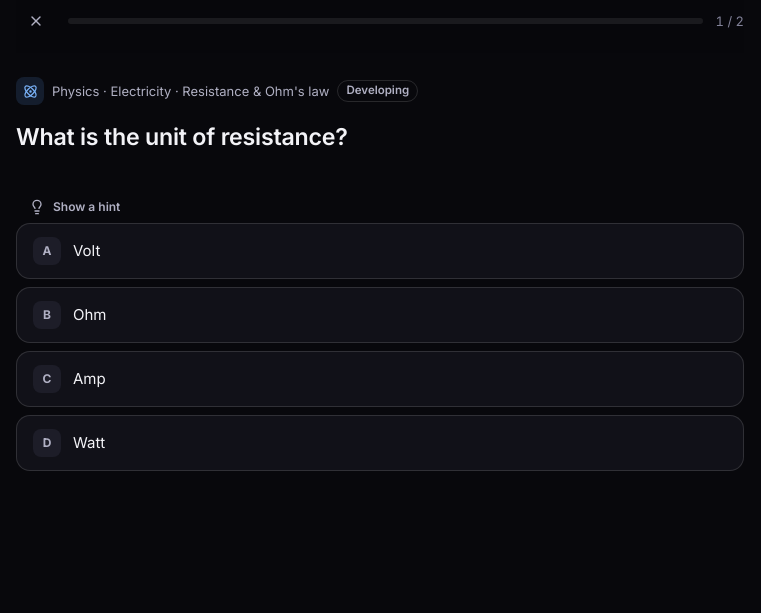
Practice session › stops at the question limit without counting the unrecorded answer
The width and height of the screenshot is (761, 613).
Click the button "B Ohm" at point(90, 314), box [16,287,744,343]
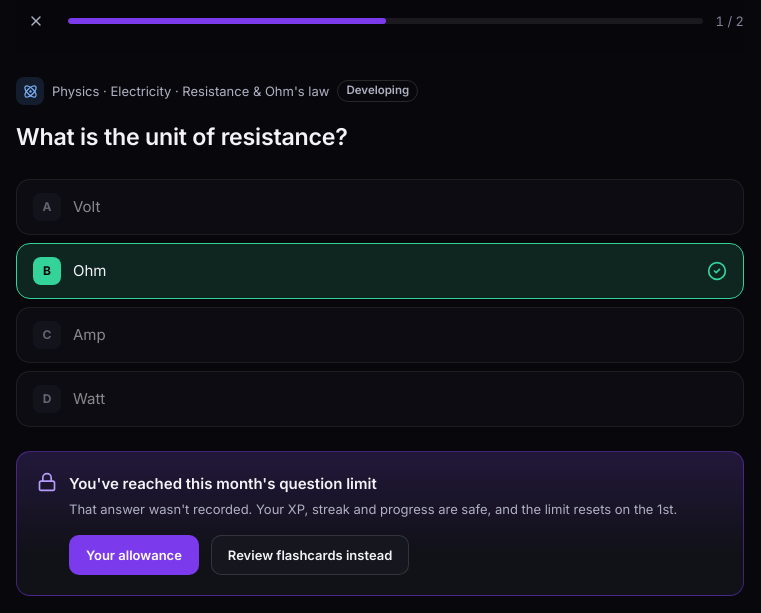
Now the text "You've reached this month's question limit" is shown, box [69,474,377,493]
Now the text "That answer wasn't recorded" is shown, box [69,501,677,517]
